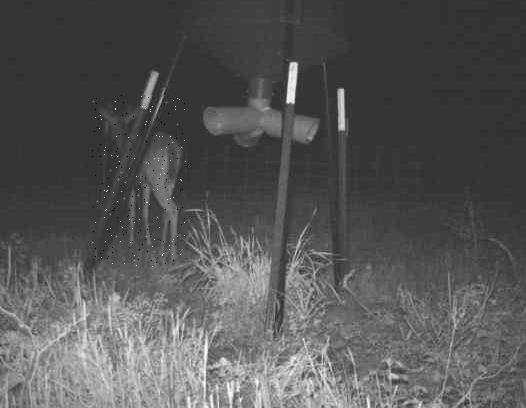Deer: (91, 95, 185, 267)
